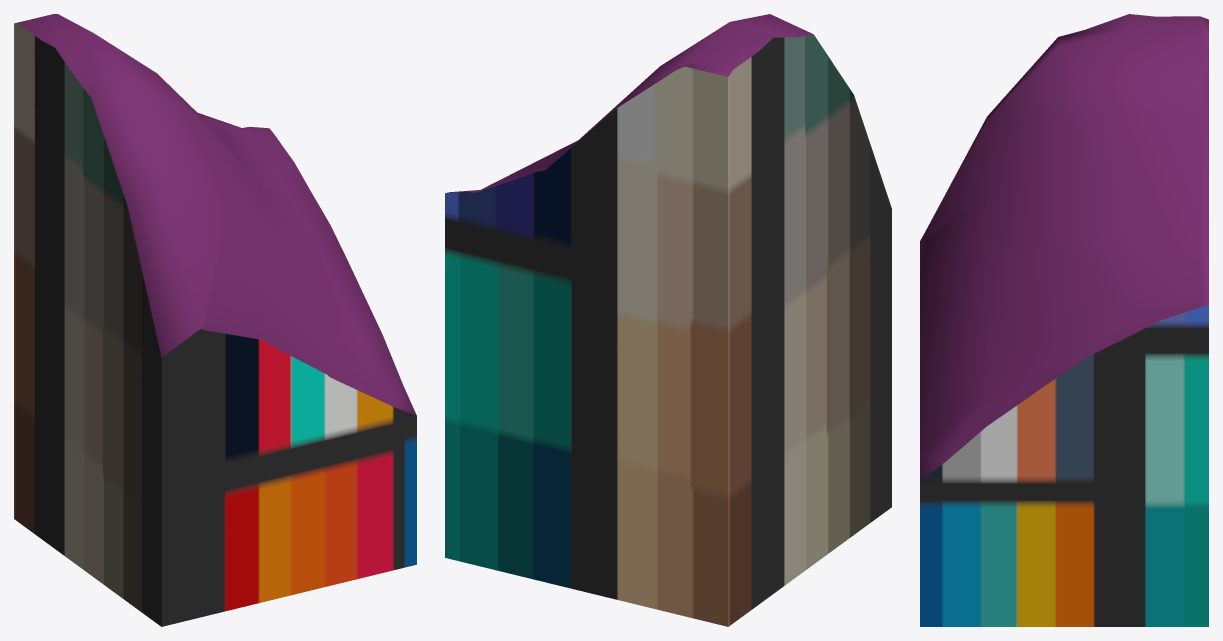
The model's file is tile_3_0_7.gltf.
3 views of the same model, side by side, from view 1: azimuth 30°, elevation 25°; view 2: azimuth 150°, elevation 25°; view 3: azimuth 270°, elevation 25° (orthographic). The views are drawn at different scales.
Parts seen in each view (by area): view 1: Plane; view 2: Plane; view 3: Plane.
Part boxes in pixels (x1,y1,x2,y2): Plane: (14, 14, 416, 626); Plane: (445, 14, 891, 626); Plane: (920, 14, 1208, 626).
Bounding box in the file's own units: 8 × 15.15 × 8.
Materials: 1 (1 with a texture image).
